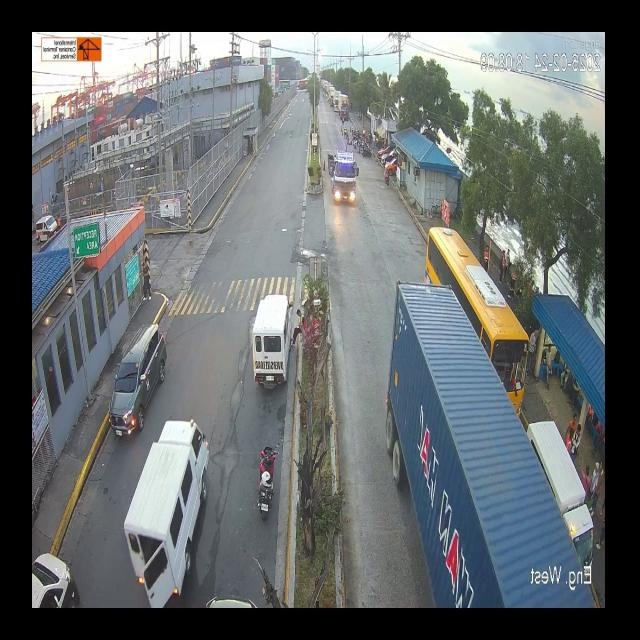bus: (435, 223, 525, 389)
car: (123, 418, 220, 602), (112, 316, 156, 434), (247, 292, 295, 386)
motorcycle: (256, 438, 276, 527)
truck: (44, 280, 596, 605), (320, 144, 360, 208), (338, 94, 352, 122)
